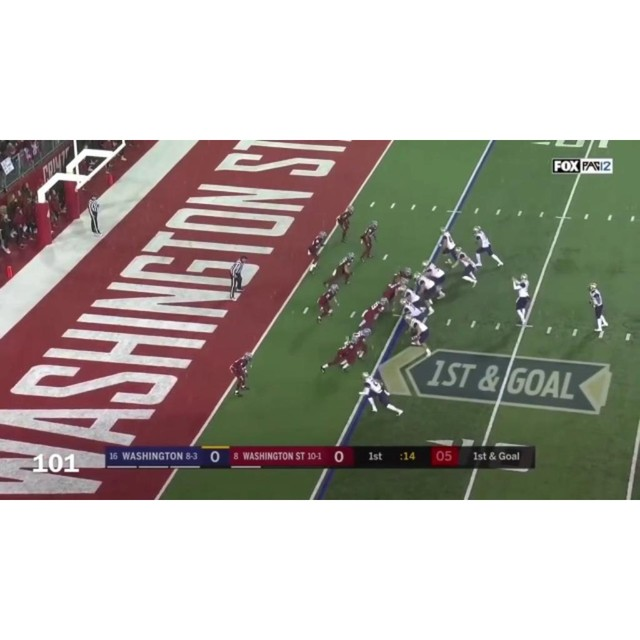american-football-player: (359, 372, 404, 417), (320, 338, 361, 375), (472, 225, 504, 268), (404, 313, 433, 356), (587, 282, 609, 337), (510, 273, 532, 326), (229, 352, 254, 396), (325, 253, 356, 288), (414, 272, 441, 312), (454, 248, 479, 288), (316, 283, 341, 323), (359, 297, 390, 328), (423, 261, 448, 298), (307, 230, 327, 272), (359, 221, 379, 262), (400, 286, 428, 315), (350, 327, 372, 359), (336, 206, 355, 242), (389, 266, 414, 288)
referee: (227, 255, 247, 301), (86, 194, 102, 235)
